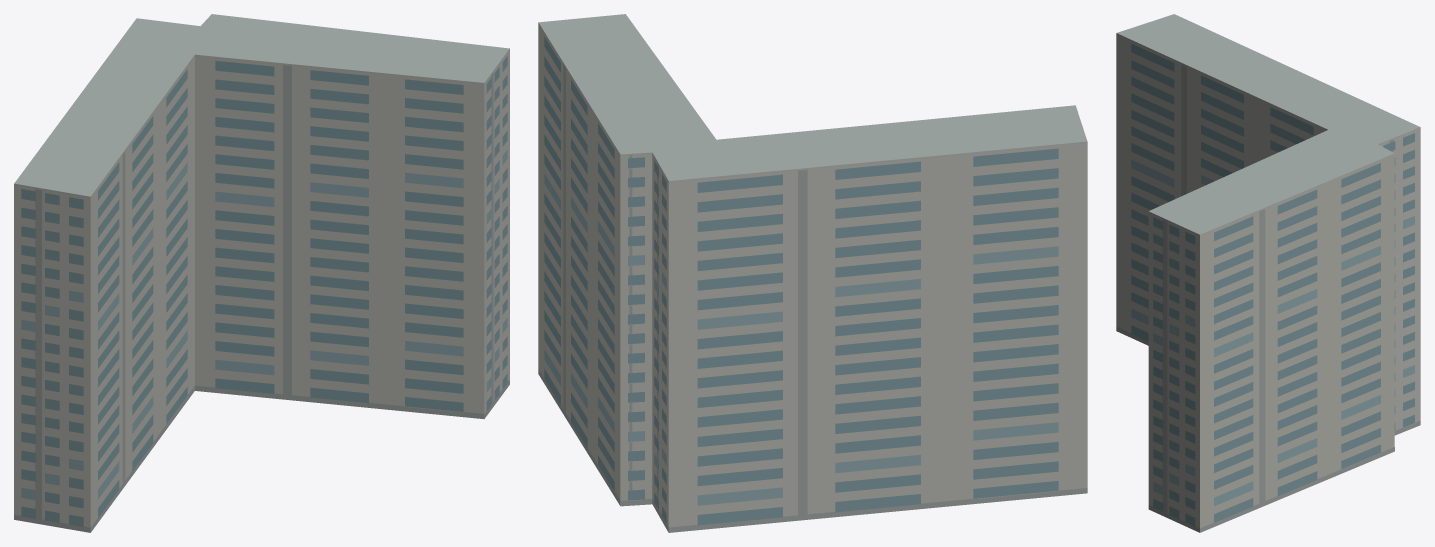
Rendered from residential-1557f871-ba02-415d-b4bd-3d7550289f89.glb.
The picture shows the model from 3 angles, left to right: view 1: azimuth 30°, elevation 25°; view 2: azimuth 150°, elevation 25°; view 3: azimuth 270°, elevation 25°; orthographic projection. The views are drawn at different scales.
Parts seen in each view (by area): view 1: residential-1557f871-ba02-415d-b4bd-3d7550289f89.tmp; view 2: residential-1557f871-ba02-415d-b4bd-3d7550289f89.tmp; view 3: residential-1557f871-ba02-415d-b4bd-3d7550289f89.tmp.
Boxes of the visible parts, x1=… form: residential-1557f871-ba02-415d-b4bd-3d7550289f89.tmp: x1=14, y1=14, x2=509, y2=532; residential-1557f871-ba02-415d-b4bd-3d7550289f89.tmp: x1=538, y1=14, x2=1087, y2=532; residential-1557f871-ba02-415d-b4bd-3d7550289f89.tmp: x1=1116, y1=14, x2=1420, y2=532.
Bounding box in the file's own units: 76.23 × 48 × 44.37.
